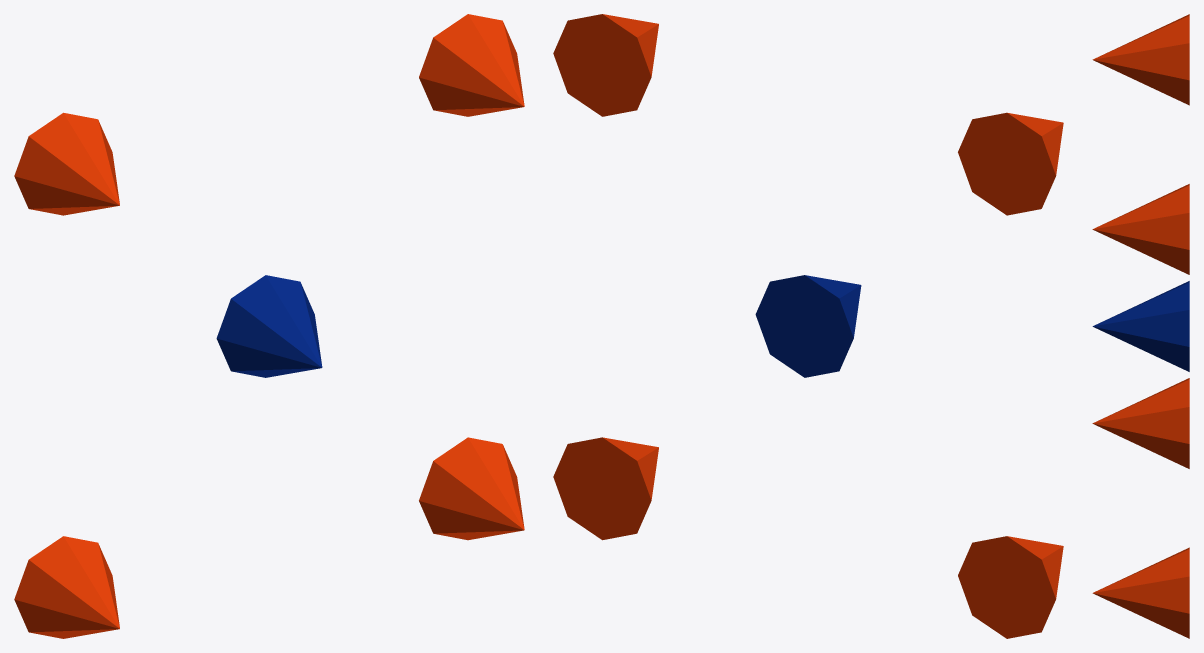
File: demo-ui-alignment.glb
3 renders of one model, left to right at view 1: azimuth 30°, elevation 25°; view 2: azimuth 150°, elevation 25°; view 3: azimuth 270°, elevation 25°, orthographic. The views are drawn at different scales.
Parts seen in each view (by area): view 1: Cone.004, Cone.001, Cone, Cone.002, Cone.003; view 2: Cone.001, Cone.004, Cone, Cone.003, Cone.002; view 3: Cone.001, Cone.004, Cone, Cone.002, Cone.003.
Part boxes in pixels (x1,y1,x2,y2): Cone.004: (419, 437, 524, 540); Cone.001: (14, 112, 119, 215); Cone: (216, 275, 322, 377); Cone.002: (14, 536, 119, 638); Cone.003: (419, 14, 524, 116); Cone.001: (958, 112, 1063, 215); Cone.004: (553, 437, 658, 540); Cone: (755, 275, 861, 377); Cone.003: (553, 14, 658, 116); Cone.002: (958, 536, 1063, 638); Cone.001: (1092, 14, 1189, 105); Cone.004: (1092, 547, 1189, 638); Cone: (1092, 281, 1189, 371); Cone.002: (1092, 378, 1189, 468); Cone.003: (1092, 184, 1189, 274).
Bounding box in the file's own units: 4.97 × 4.97 × 0.9722.
